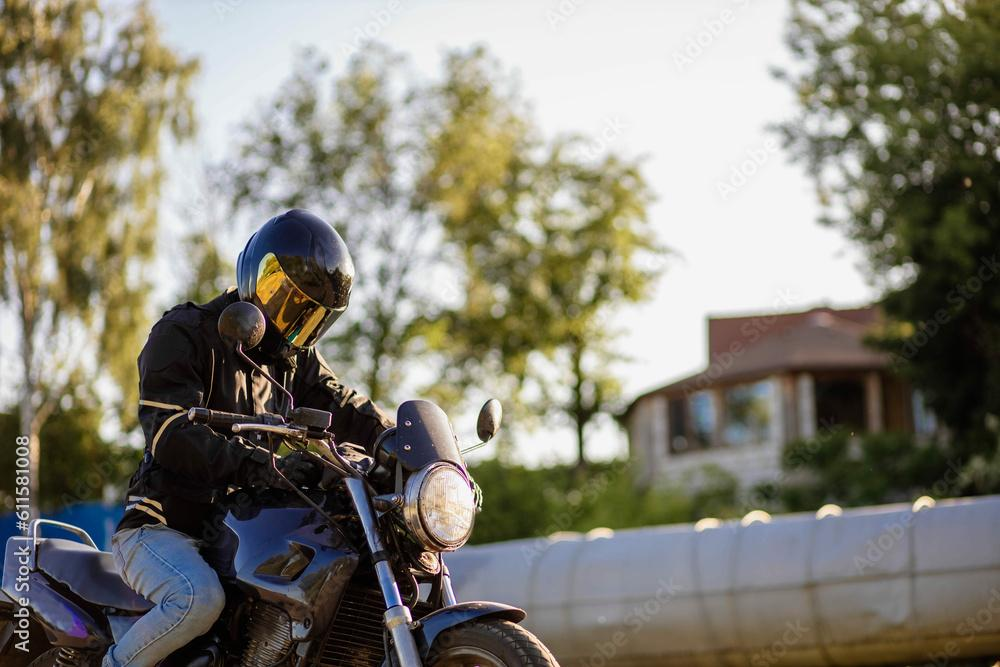helmet: (235, 207, 356, 362)
